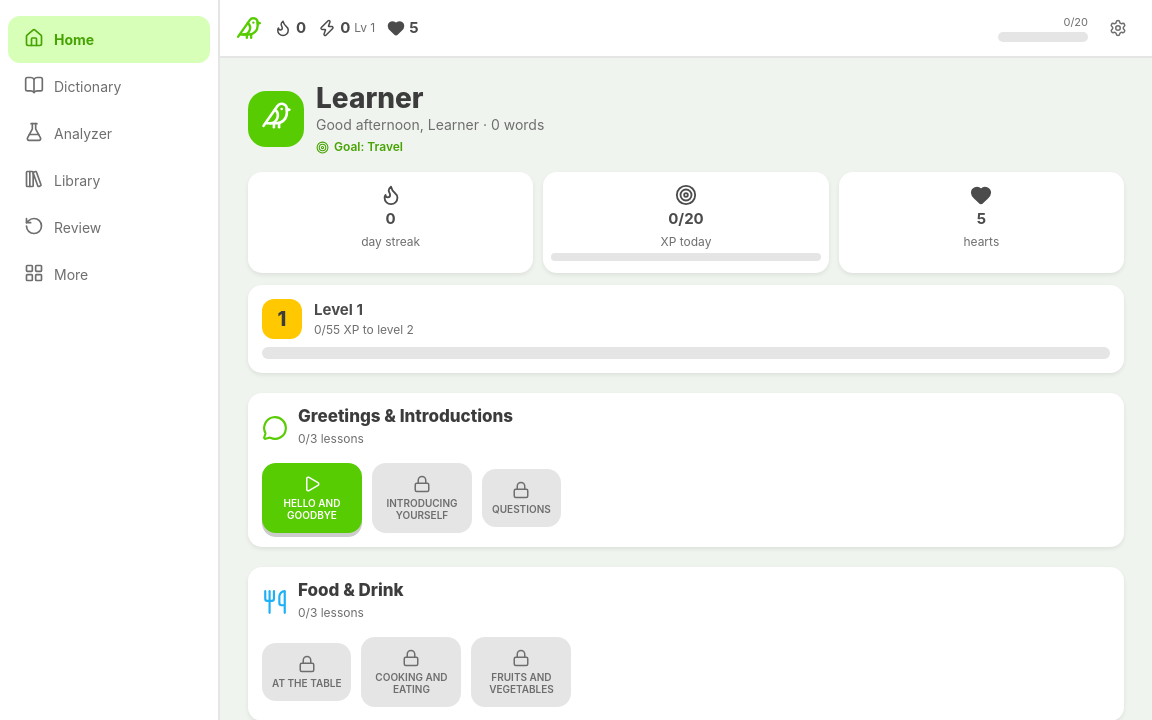
it: App › opens the library with the classics
This screenshot has width=1152, height=720.
Click the button "Library" at x=109, y=180, box [8, 157, 210, 204]
(page scrolled)
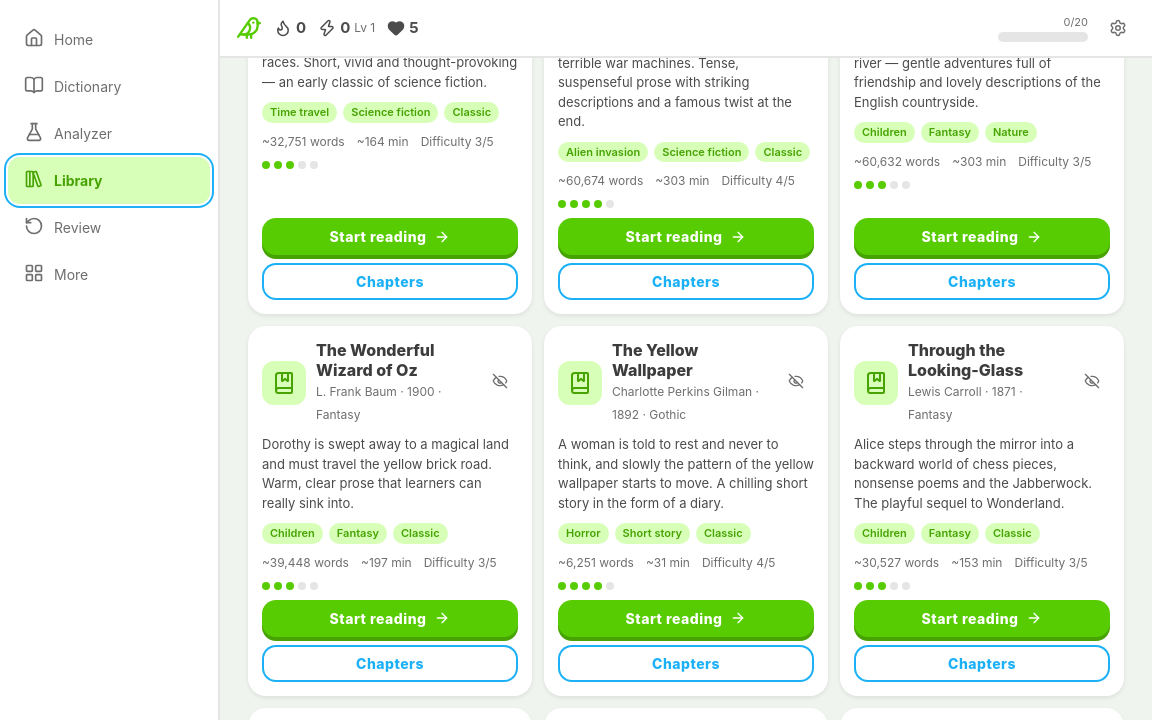
Now the heading "The Wonderful Wizard of Oz" is shown, box [316, 340, 434, 380]
